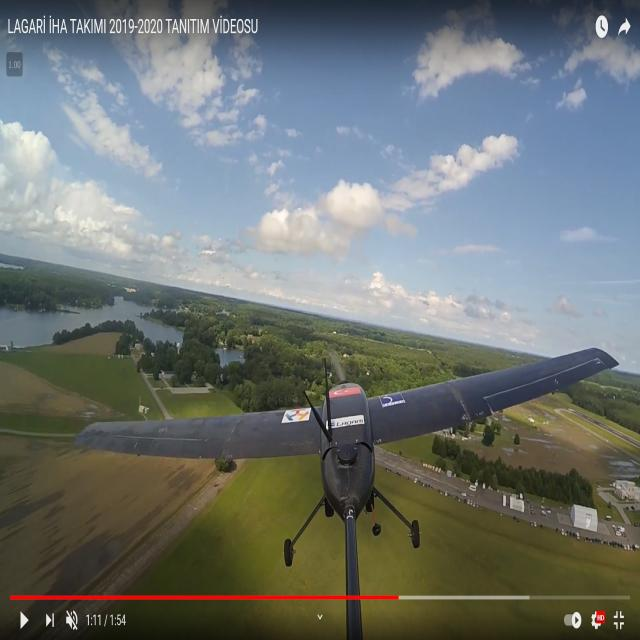iha: (76, 338, 619, 565)
